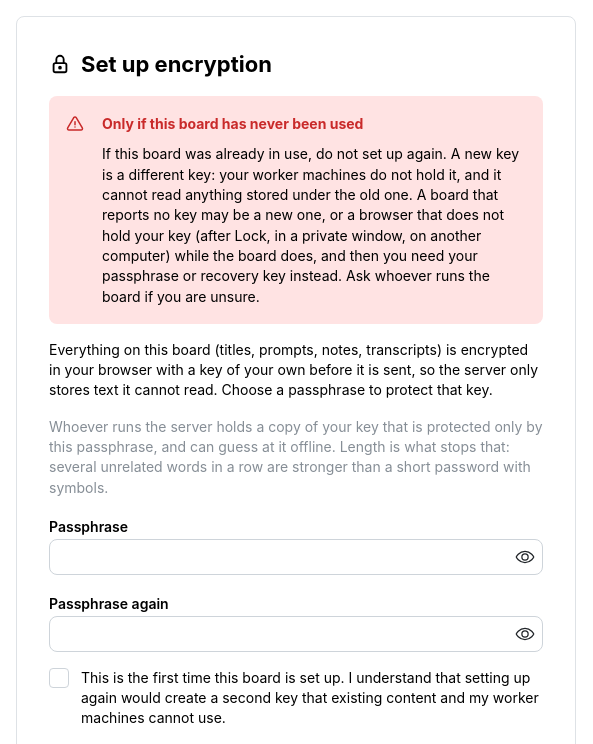
Test: SetupScreen › says that a board already in use must not be set up again, and needs a deliberate confirmation of a first-time setup
The image size is (593, 744).
expect the text "cannot read anything stored under the old one" is shown: met, box [102, 146, 519, 305]
Type "correct horse battery staple" into the password field labelled "Passphrase" at (296, 557), box [50, 540, 542, 574]
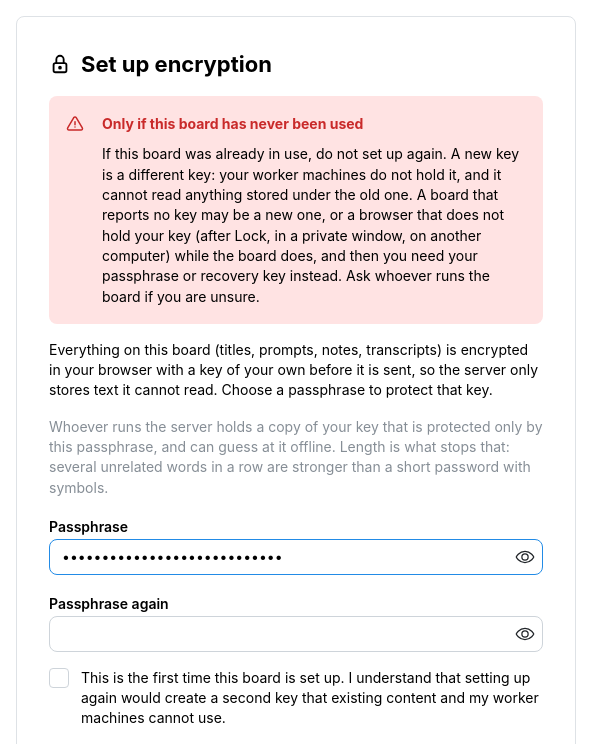
Type "correct horse battery staple" into the password field labelled "Passphrase again" at (296, 634), box [50, 616, 542, 650]
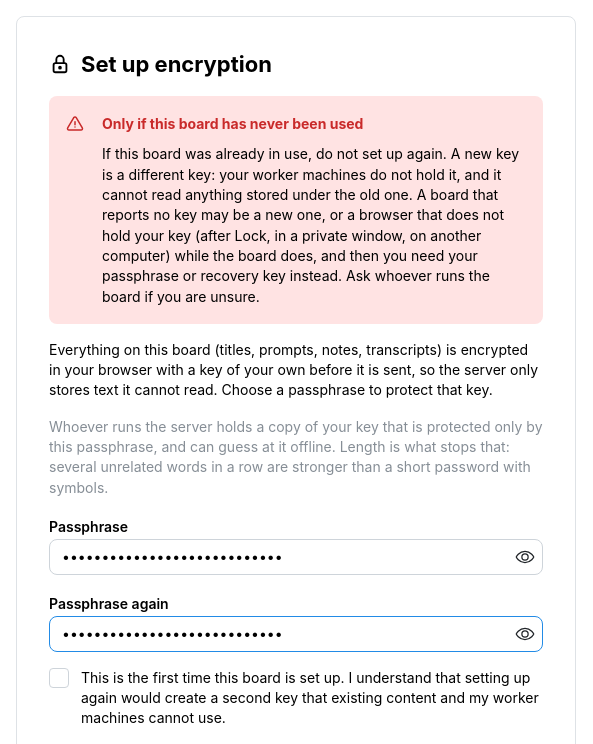
Click the checkbox labelled "first time this board is set up" at (59, 678), box [49, 668, 69, 688]
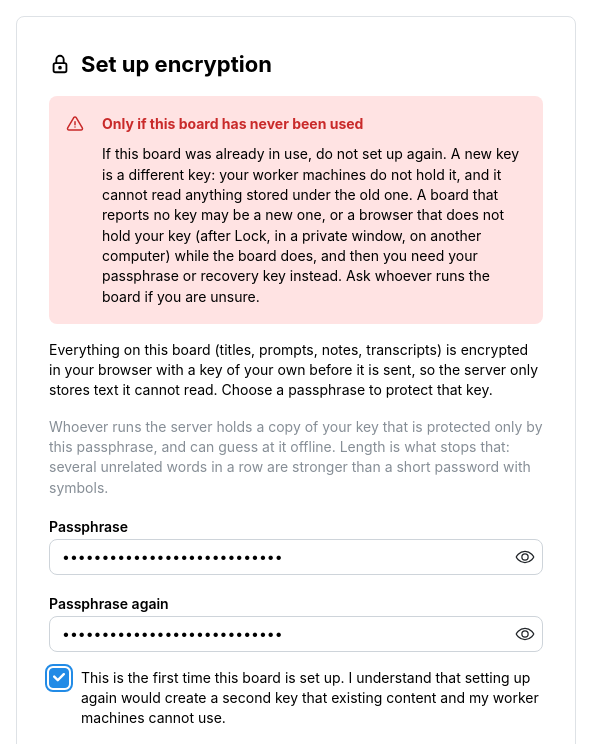
Click the checkbox labelled "first time this board is set up" at (59, 678), box [49, 668, 69, 688]
(page scrolled)
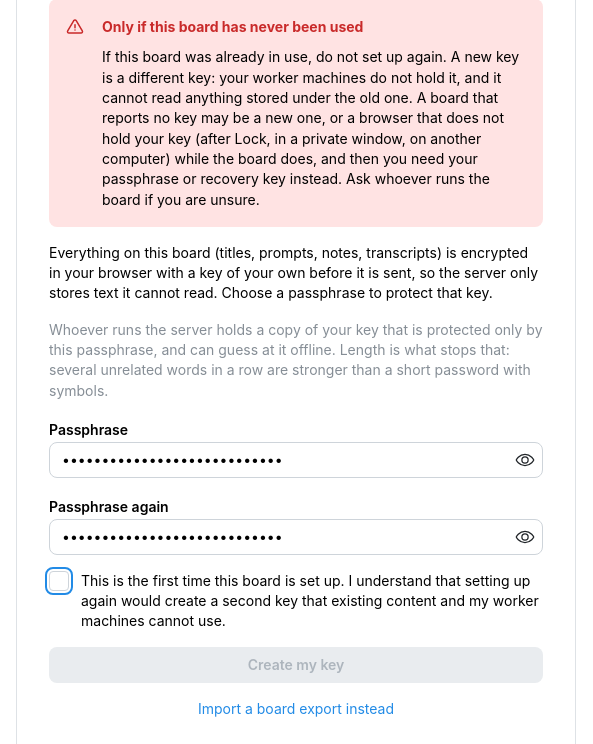
expect the button "Create my key" is disabled: met, box [49, 646, 543, 682]
